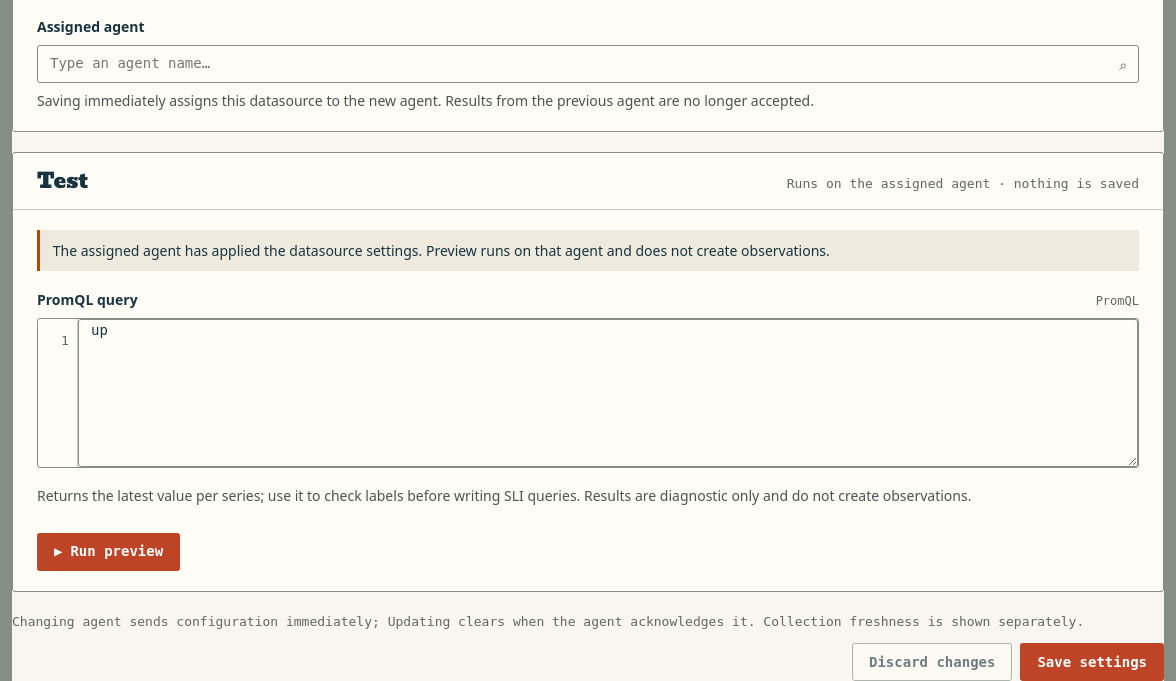
Scenario: datasource page › continues polling after the cancel request fails and shows the diagnostic final state
(page scrolled)
Step 1. Click the button "▶ Run preview" → (109,552), box [37,533,180,571]
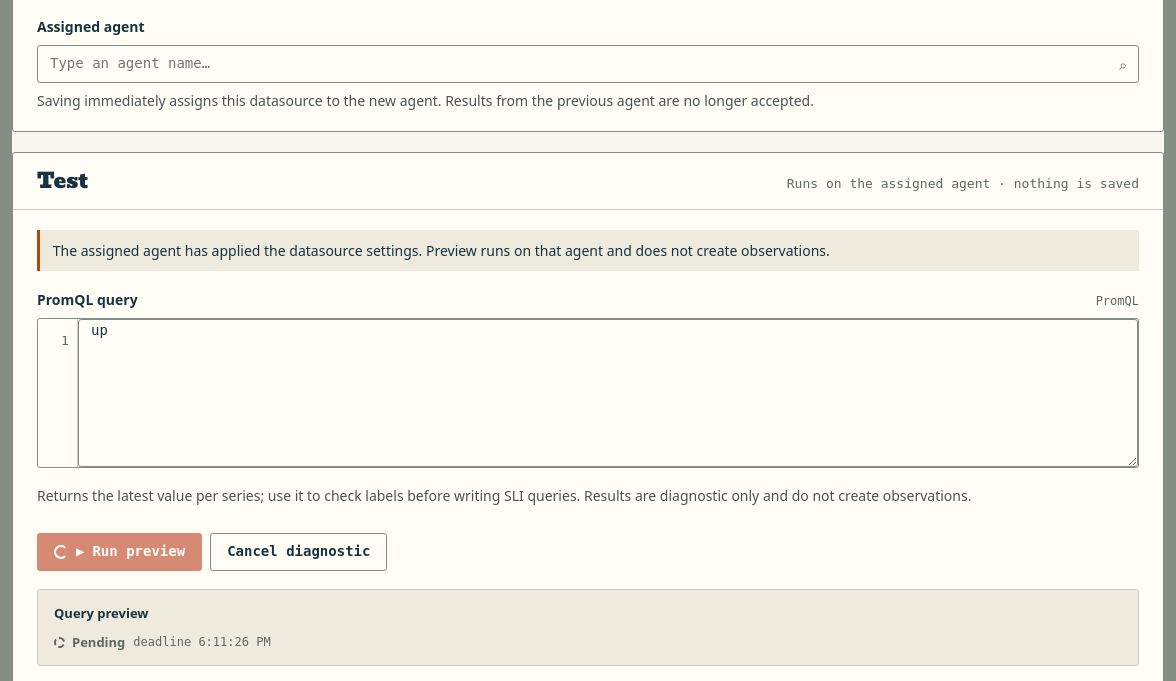
Step 2. Click the button "Cancel diagnostic" → (299,552), box [210,533,388,571]
(page scrolled)
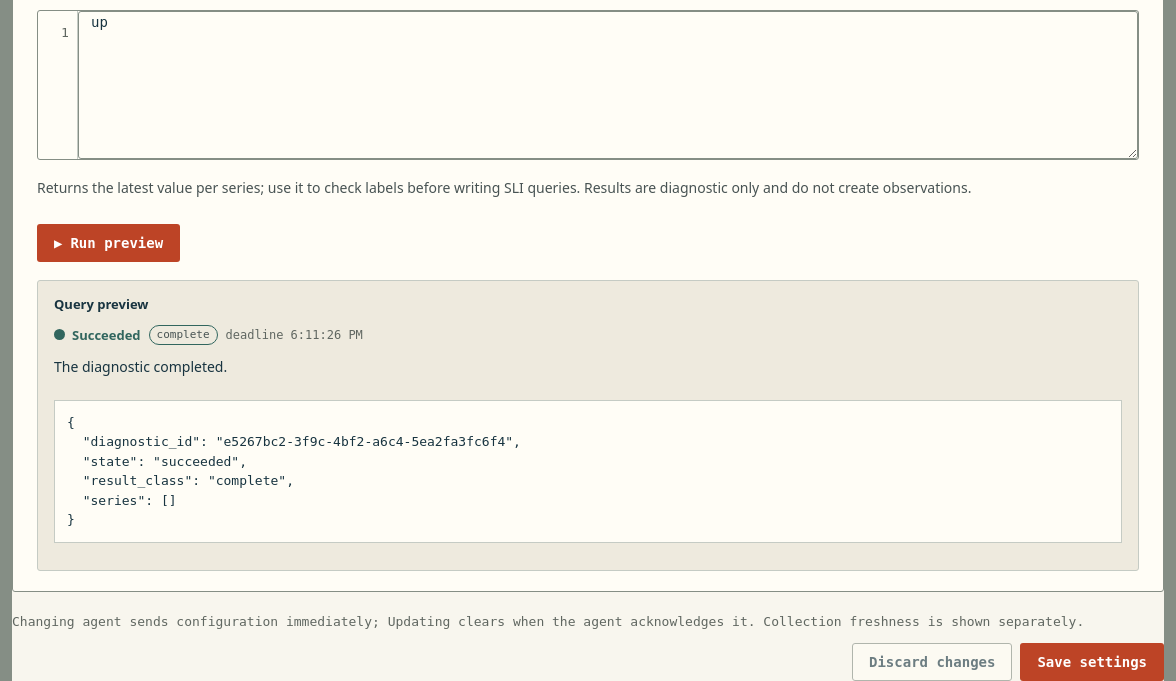
Result: the text "Succeeded" is shown at [54,326,141,344]
